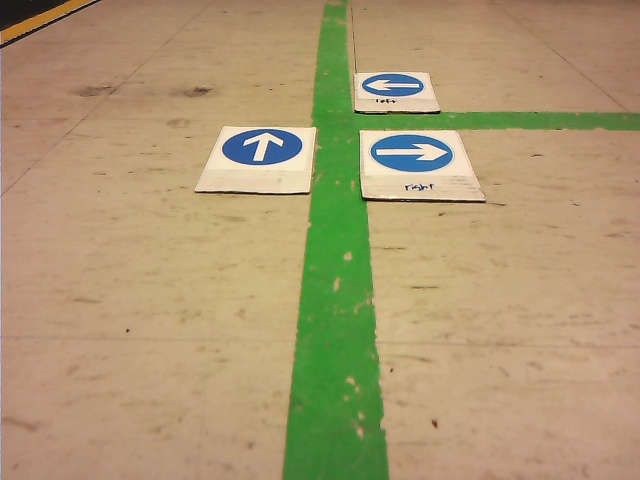GO FORWARD: (222, 130, 301, 164)
TURN LEFT: (363, 73, 423, 96)
TURN RIGHT: (371, 135, 454, 171)
